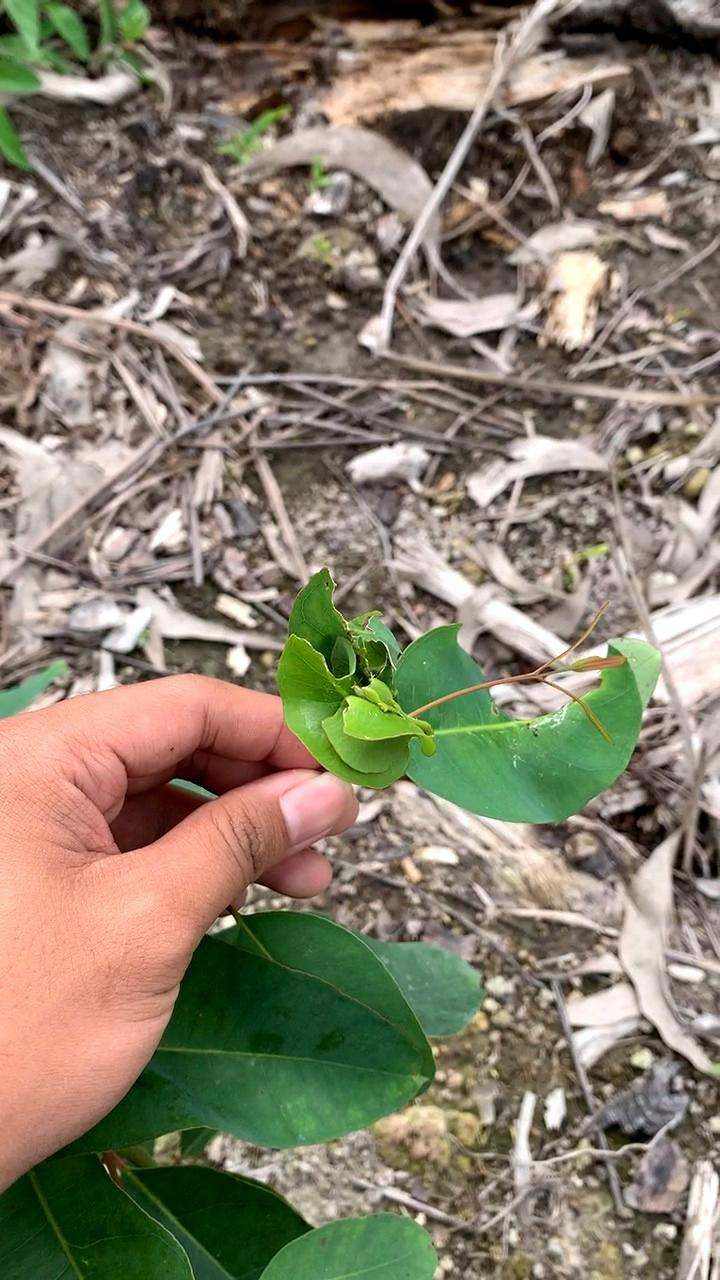Leaf Roller - Leaf: (280, 571, 439, 799)
